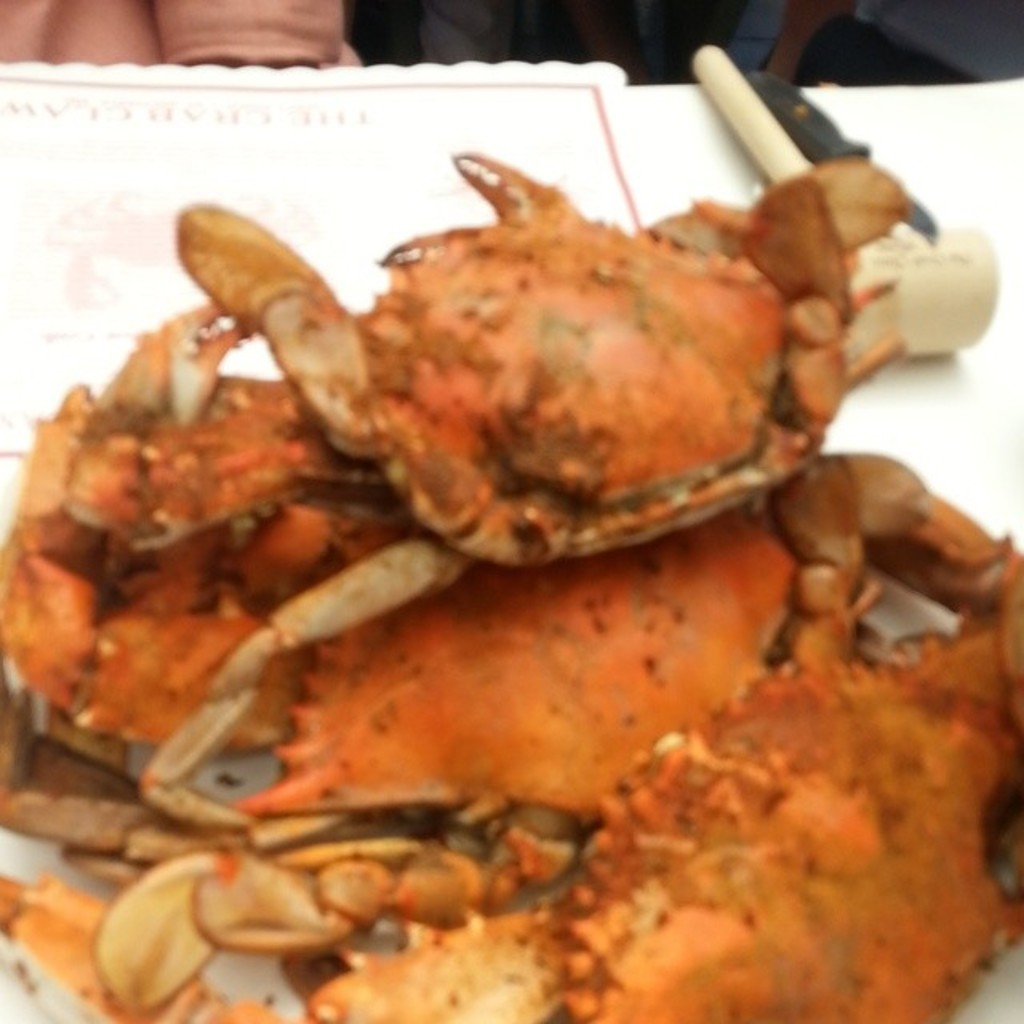person: (7, 0, 368, 71)
